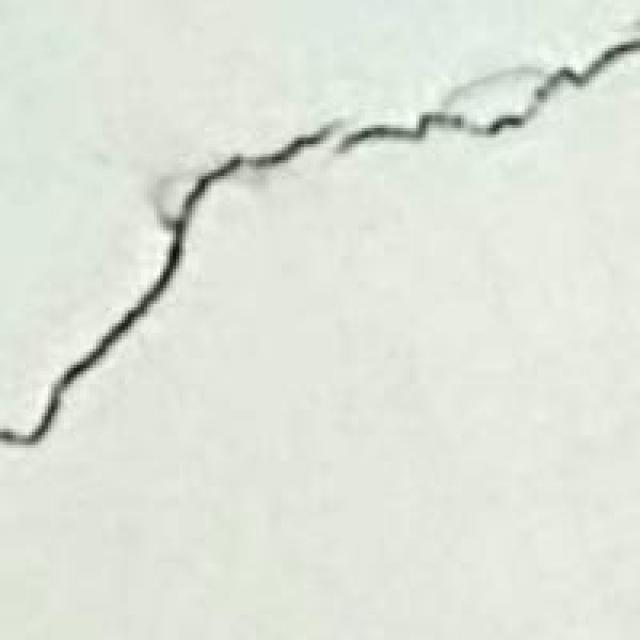crack: (0, 39, 637, 474)
